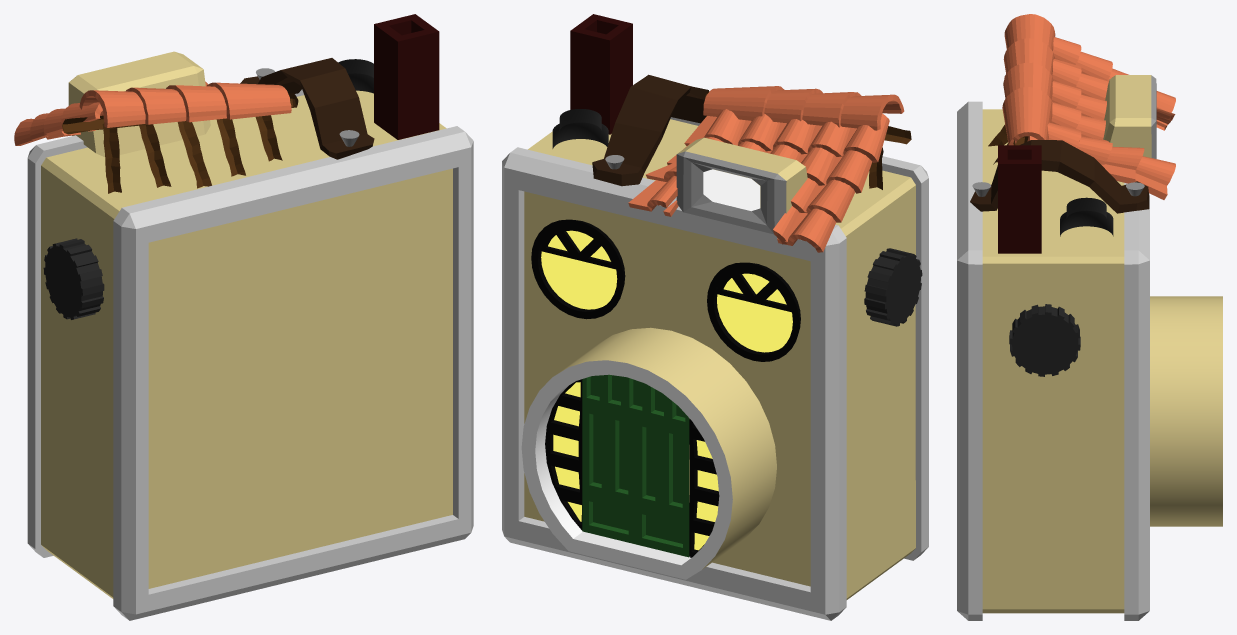
File: Casinha2.glb
The picture shows the model from 3 angles, left to right: view 1: azimuth 30°, elevation 25°; view 2: azimuth 150°, elevation 25°; view 3: azimuth 270°, elevation 25°; orthographic projection. The views are drawn at different scales.
Visible parts, largest first — view 1: Camera.001, Telhado, Chaminé, Flash, Tira, Suporte do telhado, Laterais, Botão, Suporte do telhado 2; view 2: Camera.001, Moldura, Telhado, Porta, Circle, Flash, janelas da porta, Tira, Chaminé, Laterais, Botão; view 3: Camera.001, Moldura, Telhado, Chaminé, Laterais, Tira, Flash, Botão.
Boxes of the visible parts, x1=… form: Camera.001: x1=27, y1=89, x2=473, y2=620; Telhado: x1=14, y1=81, x2=291, y2=145; Chaminé: x1=374, y1=14, x2=439, y2=139; Flash: x1=68, y1=51, x2=210, y2=156; Tira: x1=240, y1=58, x2=374, y2=159; Suporte do telhado: x1=102, y1=115, x2=282, y2=193; Laterais: x1=43, y1=238, x2=104, y2=319; Botão: x1=338, y1=59, x2=373, y2=93; Suporte do telhado 2: x1=62, y1=93, x2=298, y2=134; Camera.001: x1=502, y1=117, x2=928, y2=620; Moldura: x1=521, y1=327, x2=776, y2=579; Telhado: x1=628, y1=86, x2=904, y2=252; Porta: x1=582, y1=374, x2=689, y2=557; Circle: x1=531, y1=219, x2=800, y2=361; Flash: x1=676, y1=137, x2=807, y2=234; janelas da porta: x1=545, y1=379, x2=719, y2=557; Tira: x1=592, y1=74, x2=708, y2=186; Chaminé: x1=570, y1=14, x2=632, y2=134; Laterais: x1=864, y1=248, x2=922, y2=326; Botão: x1=552, y1=109, x2=608, y2=148; Camera.001: x1=957, y1=101, x2=1149, y2=620; Moldura: x1=1150, y1=296, x2=1222, y2=526; Telhado: x1=1002, y1=14, x2=1175, y2=199; Chaminé: x1=998, y1=145, x2=1041, y2=253; Laterais: x1=1009, y1=304, x2=1080, y2=376; Tira: x1=970, y1=140, x2=1149, y2=213; Flash: x1=1103, y1=75, x2=1156, y2=158; Botão: x1=1060, y1=197, x2=1113, y2=236.
Bounding box in the file's own units: 4.95 × 6.22 × 3.27.
